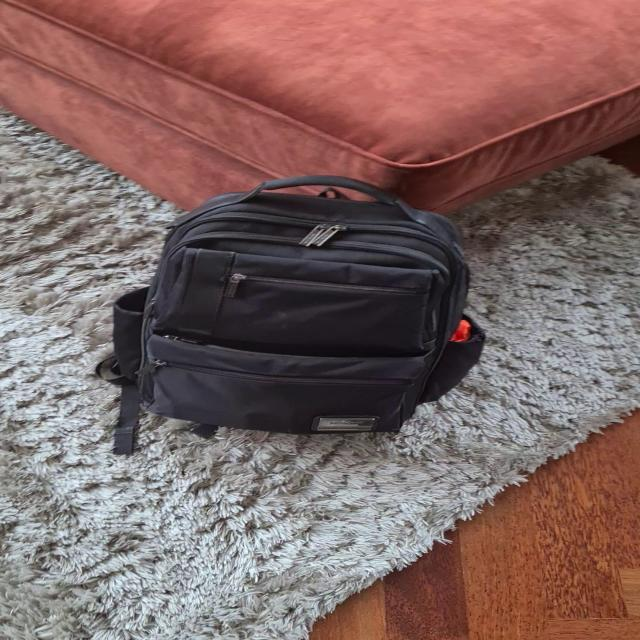backpack: (95, 160, 493, 444)
